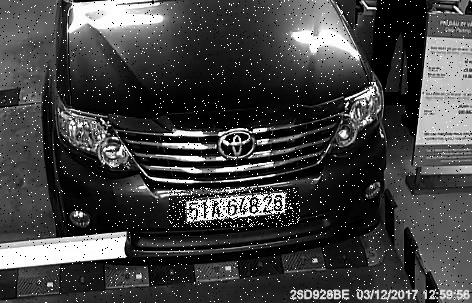License-plate: (171, 188, 302, 228)
